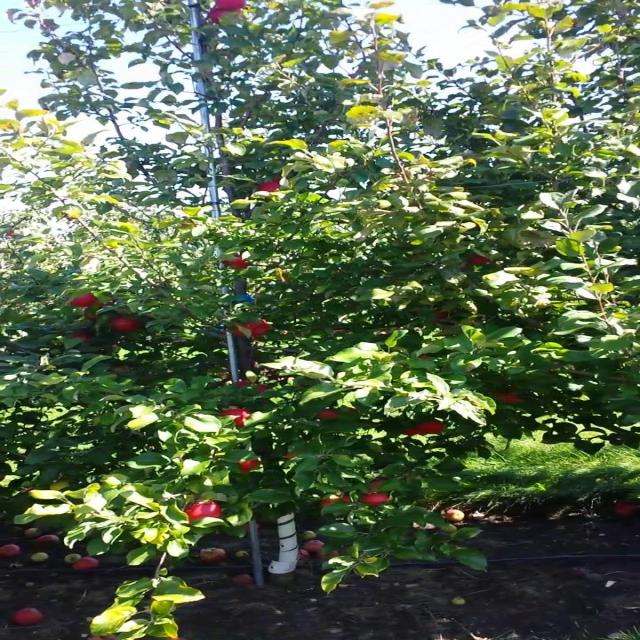apple: (234, 320, 270, 339), (184, 504, 222, 521), (220, 408, 252, 428), (113, 316, 142, 332), (419, 420, 448, 436), (70, 296, 100, 308), (362, 496, 391, 508), (227, 256, 249, 271), (497, 392, 524, 404), (220, 0, 249, 11), (212, 8, 231, 24), (241, 460, 263, 473), (241, 384, 270, 393), (326, 496, 354, 505), (262, 180, 283, 192), (70, 332, 92, 343), (468, 256, 492, 266), (369, 480, 386, 492), (212, 12, 229, 24), (319, 412, 341, 420), (433, 312, 450, 321), (84, 312, 100, 321), (404, 428, 421, 436)
